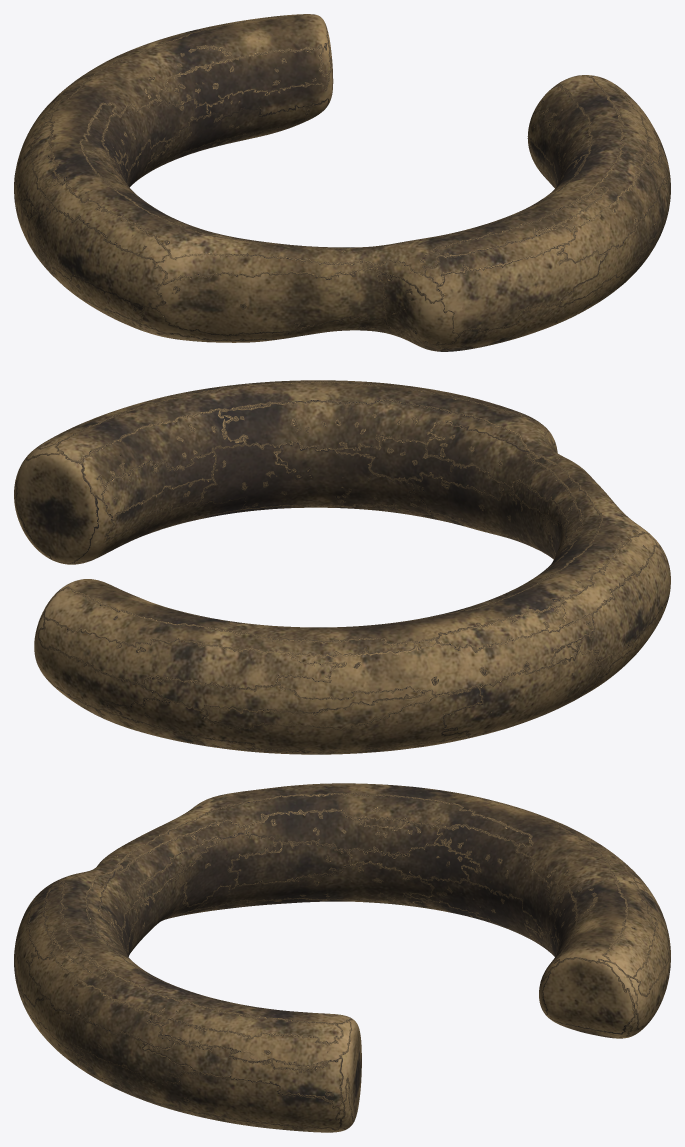
The picture shows the model from 3 angles, top to bottom: view 1: azimuth 30°, elevation 25°; view 2: azimuth 150°, elevation 25°; view 3: azimuth 270°, elevation 25°; orthographic projection. The views are drawn at different scales.
Bounding box in the file's own units: 1.98 × 0.3597 × 1.98.
Materials: 1 (1 with a texture image).
